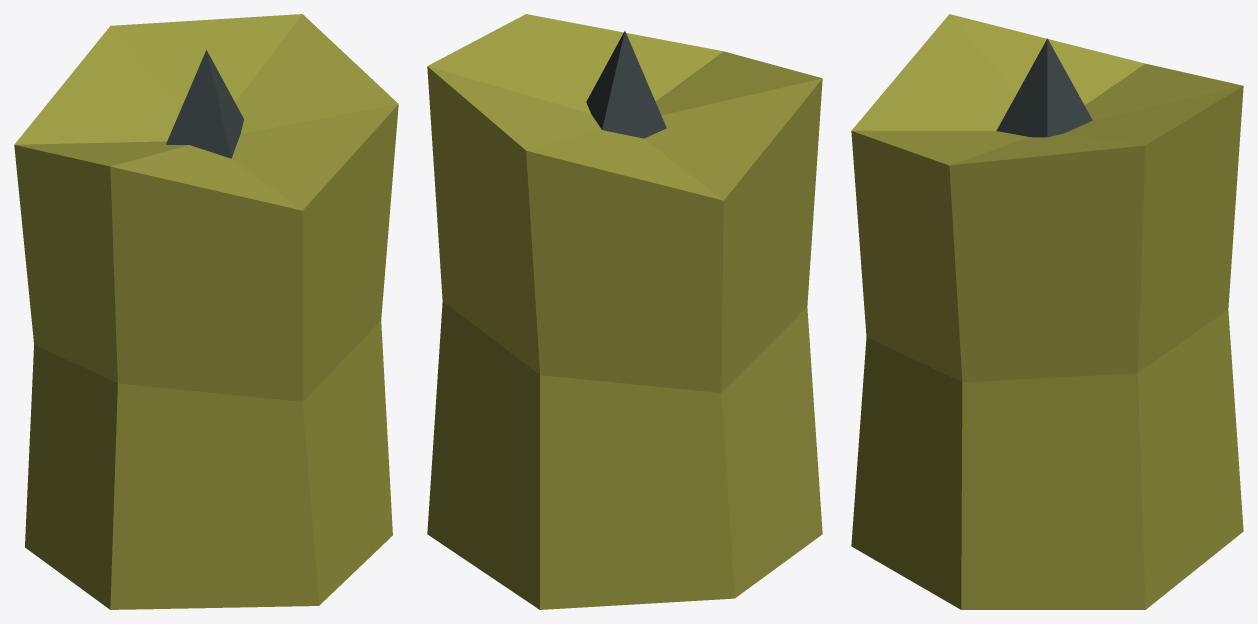
The model's file is Candle_1_Yellow.fbx.
3 renders of one model, left to right at view 1: azimuth 30°, elevation 25°; view 2: azimuth 150°, elevation 25°; view 3: azimuth 270°, elevation 25°, orthographic. The views are drawn at different scales.
Parts seen in each view (by area): view 1: Candle_1_Yellow; view 2: Candle_1_Yellow; view 3: Candle_1_Yellow.
Boxes of the visible parts, <box> form: Candle_1_Yellow: <box>14,14,398,609</box>; Candle_1_Yellow: <box>427,14,822,609</box>; Candle_1_Yellow: <box>851,14,1243,609</box>.
Bounding box in the file's own units: 10.39 × 16.87 × 12.
